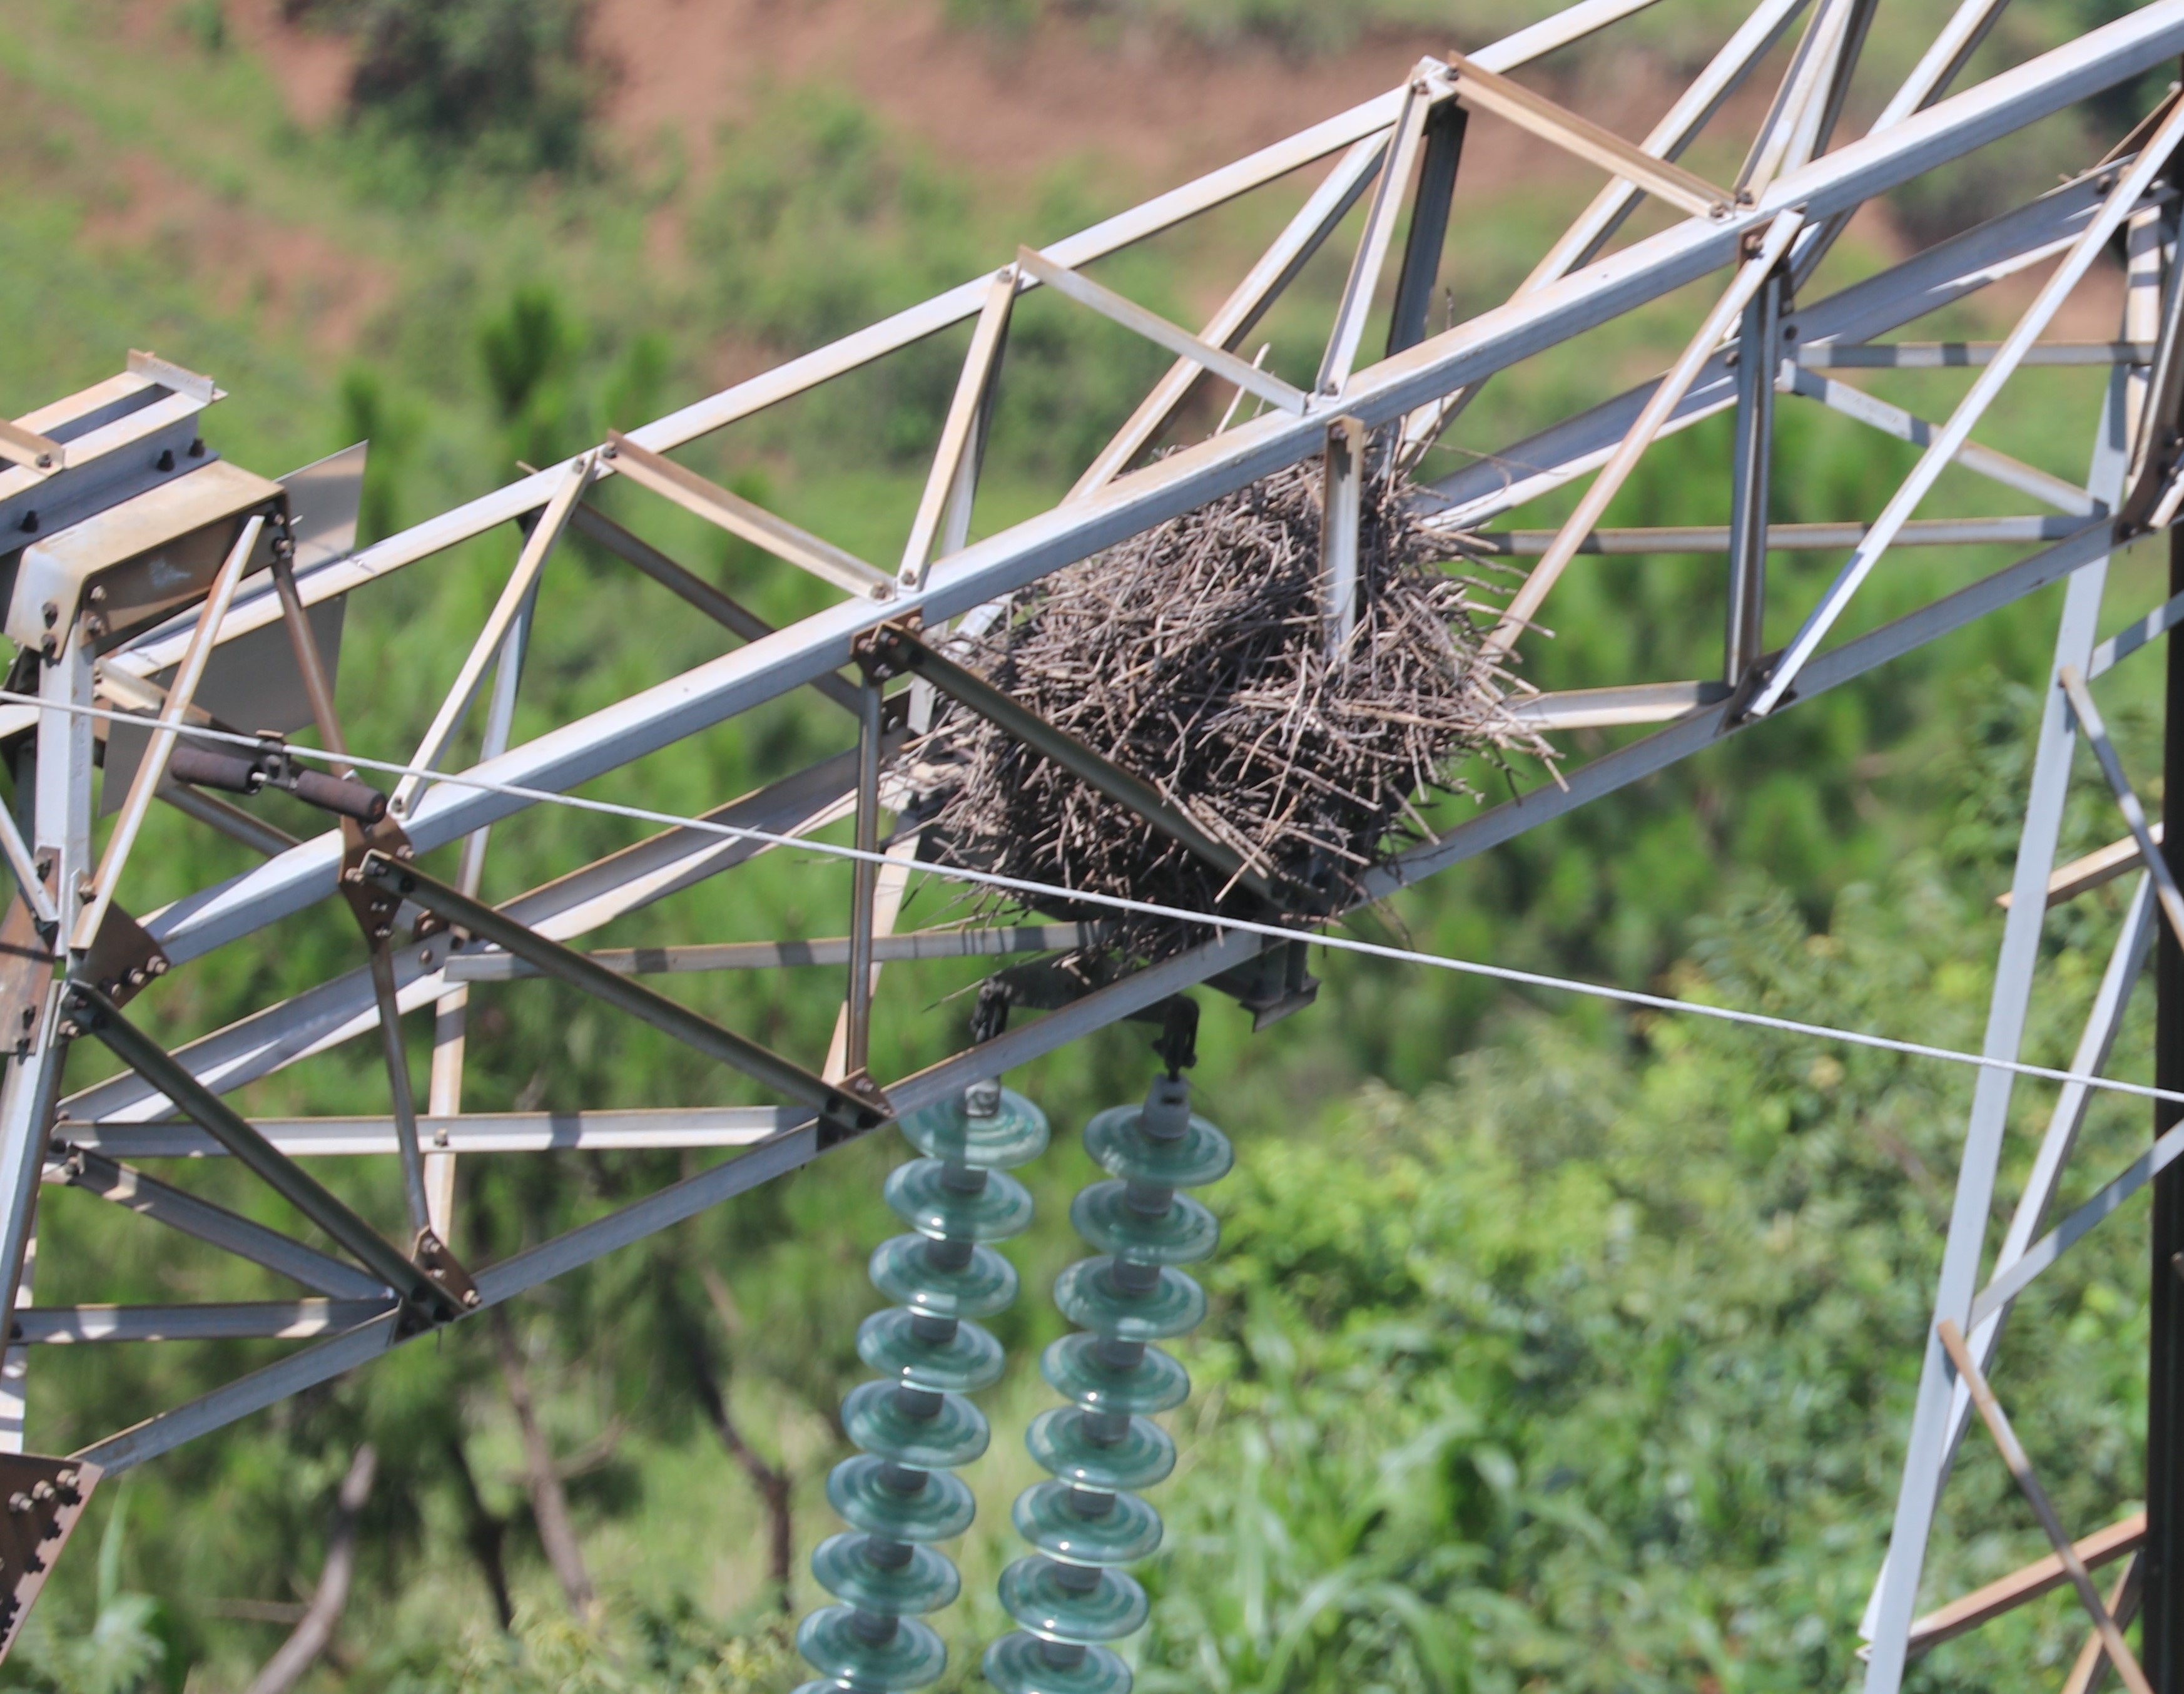niaowo: (909, 426, 1510, 963)
